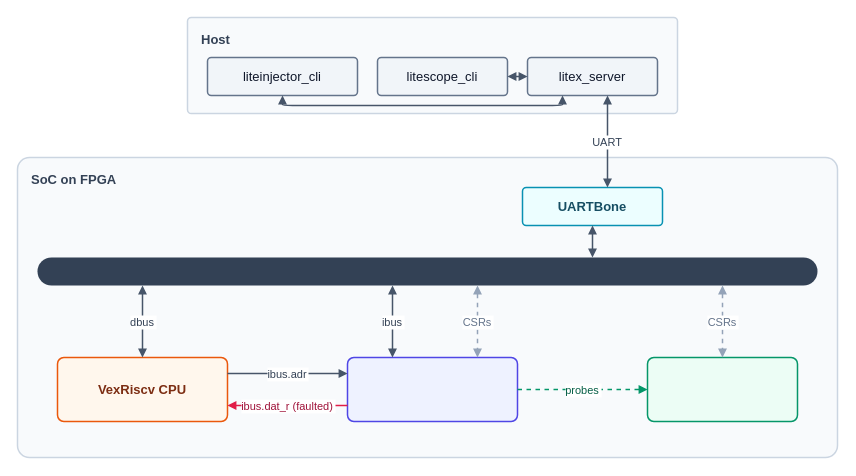
This 856x476 diagram has some shape labels left out. Each missing label, with the centre of its shape:
"LiteInjector" belongs at [432,389].
"LiteScope" belongs at [722,389].
"SoC bus (Wishbone)" belongs at [427,271].
